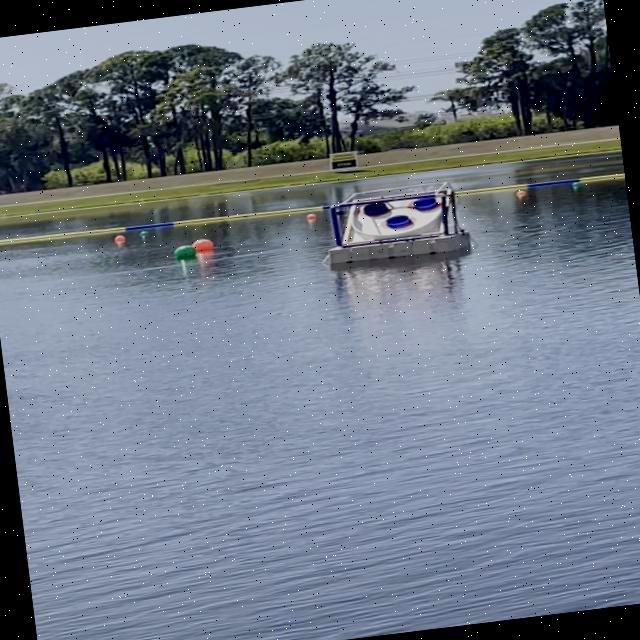buoy: (192, 236, 215, 254), (173, 244, 196, 260), (304, 208, 320, 223), (566, 179, 586, 191), (512, 187, 531, 199), (112, 232, 130, 244), (137, 228, 153, 240)
